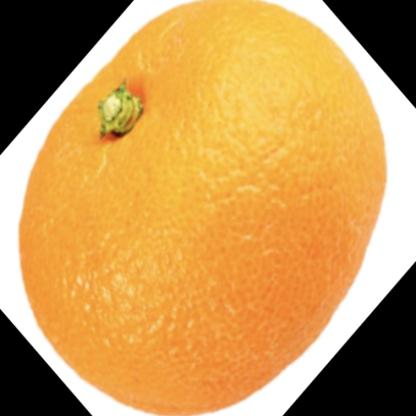fresh: (22, 1, 387, 416)
